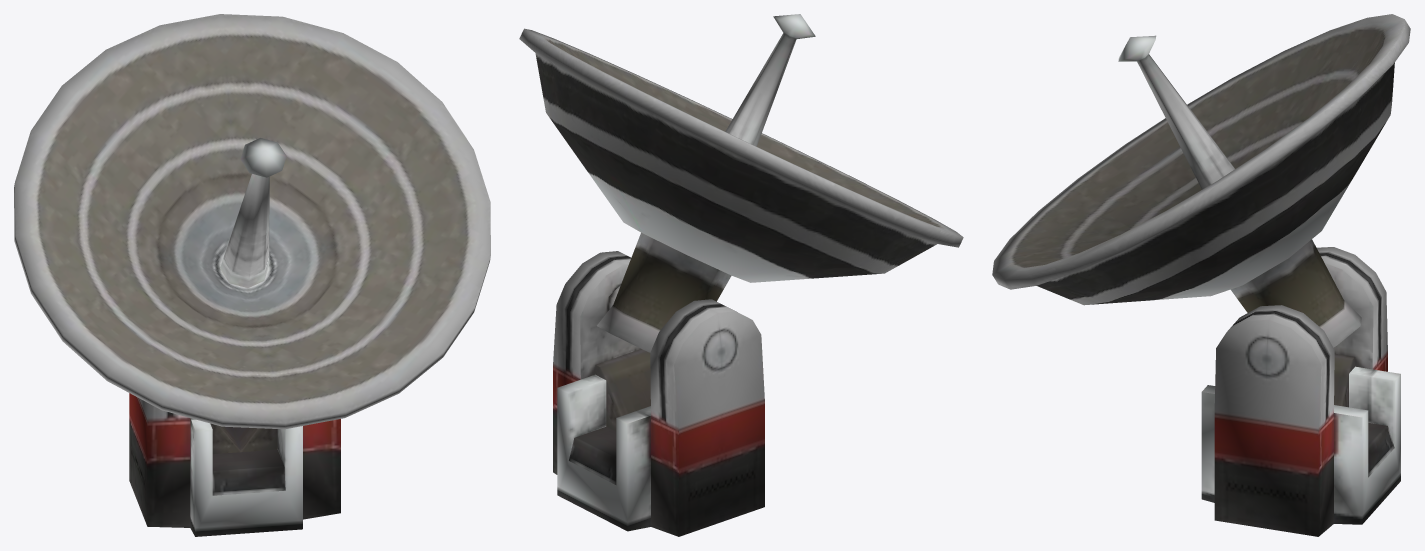
Rendered from Part - Extras 02 pad-DCri1O_V.glb.
The picture shows the model from 3 angles, left to right: view 1: azimuth 30°, elevation 25°; view 2: azimuth 150°, elevation 25°; view 3: azimuth 270°, elevation 25°; orthographic projection.
Visible parts, largest first — view 1: Extras_02, Extras_02_pad; view 2: Extras_02, Extras_02_pad; view 3: Extras_02, Extras_02_pad.
Part boxes in pixels (x1,y1,x2,y2): Extras_02: (14, 14, 490, 429); Extras_02_pad: (129, 393, 340, 536); Extras_02: (519, 14, 963, 352); Extras_02_pad: (553, 251, 764, 536); Extras_02: (992, 14, 1410, 347); Extras_02_pad: (1201, 247, 1400, 536).
Bounding box in the file's own units: 3.36 × 3.51 × 2.94.
1 material, 1 textured.
